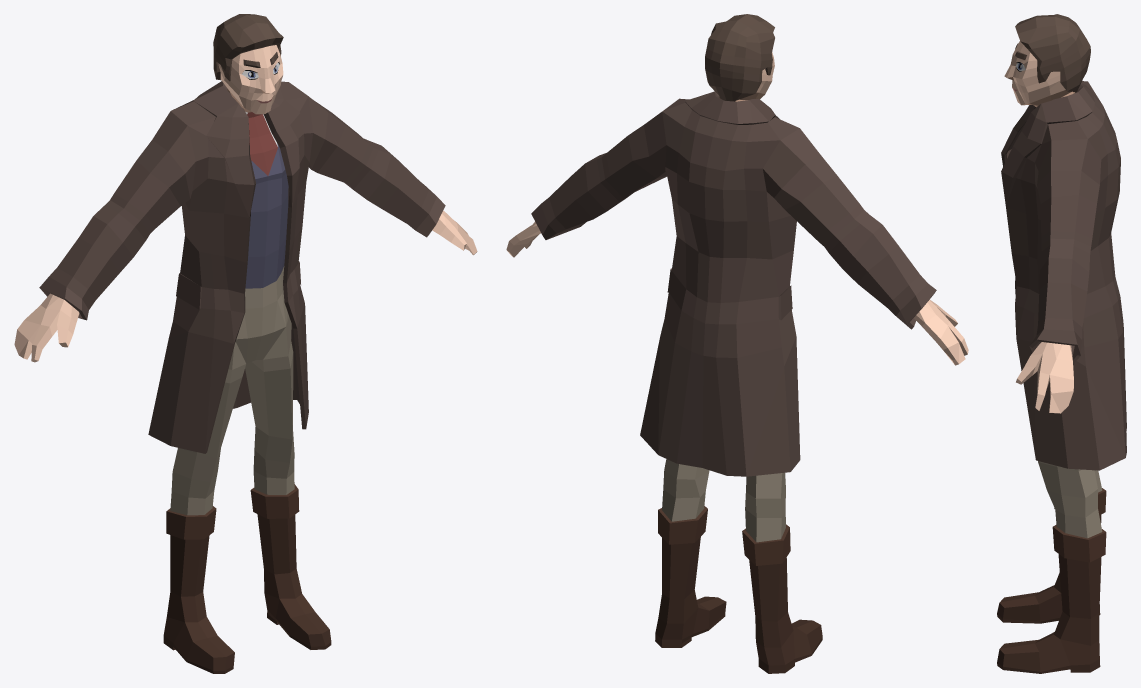
The model's file is regency_man_2.fbx.
3 renders of one model, left to right at view 1: azimuth 30°, elevation 25°; view 2: azimuth 150°, elevation 25°; view 3: azimuth 270°, elevation 25°, orthographic.
Visible parts, largest first — view 1: Coat, Cylinder; view 2: Coat, Cylinder; view 3: Coat, Cylinder.
Boxes of the visible parts, <box> form: Coat: <box>39,81,445,453</box>; Cylinder: <box>14,14,477,673</box>; Coat: <box>531,91,936,476</box>; Cylinder: <box>506,14,968,673</box>; Coat: <box>1001,81,1126,470</box>; Cylinder: <box>997,14,1106,673</box>.
Size of the model in its own units: 155 by 205 by 38.73.
